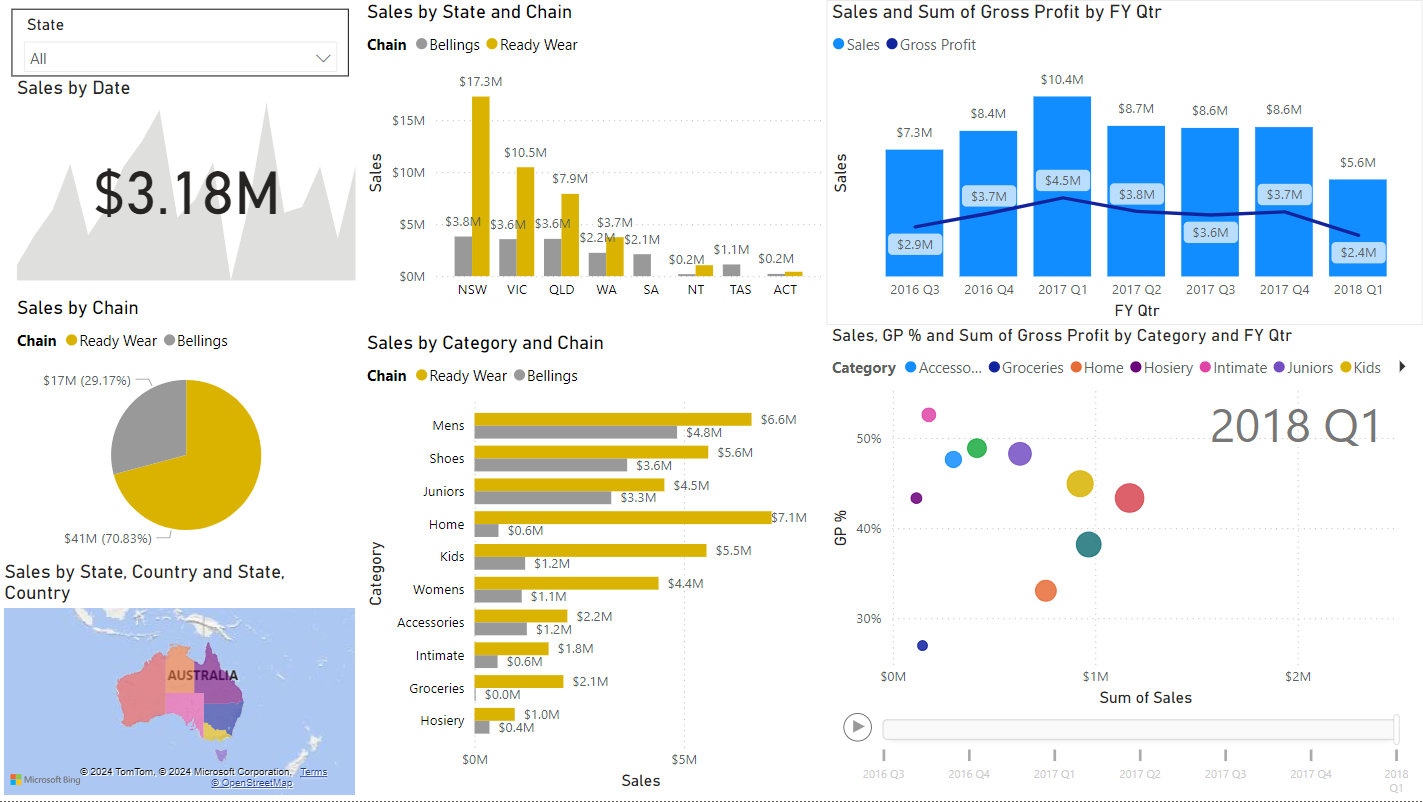

The dashboard page shown, as its layout file describes it:
{"tool":"powerbi","page":{"name":"Summary","canvas":[1280,720],"ordinal":0},"visuals":[{"type":"kpi","title":"Sales by Date","fields":{"TrendLine":["Dates.Date"],"Indicator":["Sum(Sales.Sales)"]},"box":[11.1,68.9,314.4,188.9],"z":0},{"type":"clusteredColumnChart","fields":{"Y":["Sum(Sales.Sales)"],"Category":["Regions.State"],"Series":["Sales.Chain"]},"box":[325.3,0,418.4,292],"z":1000},{"type":"lineClusteredColumnComboChart","title":"Sales and Sum of Gross Profit  by FY Qtr","fields":{"Category":["Dates.FY Qtr"],"Y":["Sum(Sales.Sales)"],"Y2":["Sum(Sales.Gross Profit )"]},"box":[743.3,0,536.7,292.2],"z":2000},{"type":"pieChart","fields":{"Category":["Sales.Chain"],"Y":["Sum(Sales.Sales)"]},"box":[11.1,266.7,314.4,236.7],"z":3000},{"type":"filledMap","title":"Sales by State, Country and State, Country","fields":{"Category":["Regions.State, Country"],"Series":["Regions.State, Country"]},"box":[0,503.6,325.2,216.8],"z":4000},{"type":"clusteredBarChart","fields":{"Category":["Sales.Category"],"Y":["Sum(Sales.Sales)"],"Series":["Sales.Chain"]},"box":[325.6,297.8,417.8,416.7],"z":5000},{"type":"scatterChart","title":"Sales, GP % and Sum of Gross Profit  by Category and FY Qtr","fields":{"X":["Sum(Sales.Sales)"],"Series":["Sales.Category"],"Y":["Sales.GP %"],"Size":["Sum(Sales.Gross Profit )"],"Play":["Dates.FY Qtr"]},"box":[743.3,292.2,536.7,427.8],"z":6000},{"type":"slicer","fields":{"Values":["Regions.State"]},"box":[11.1,7.8,303.3,61.1],"z":7000}]}

Visuals, with their boxes in screenshot pixels (x1, y1, x2, y2), scaled from the page's 1280x720 canvas onto the 1423x802 screenshot:
"Sales by Date" kpi: 12/77/362/287
clusteredColumnChart - Sum(Sales.Sales) x Regions.State: 362/0/827/325
"Sales and Sum of Gross Profit  by FY Qtr" lineClusteredColumnComboChart: 826/0/1422/325
pieChart - Sales.Chain x Sum(Sales.Sales): 12/297/362/561
"Sales by State, Country and State, Country" filledMap: 0/561/362/801
clusteredBarChart - Sales.Category x Sum(Sales.Sales): 362/332/826/796
"Sales, GP % and Sum of Gross Profit  by Category and FY Qtr" scatterChart: 826/325/1422/801
slicer - Regions.State: 12/9/350/77
